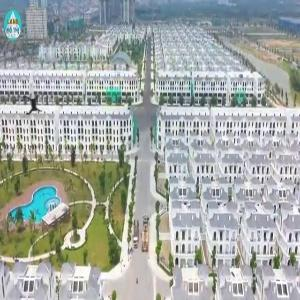drone: (7, 81, 58, 132)
